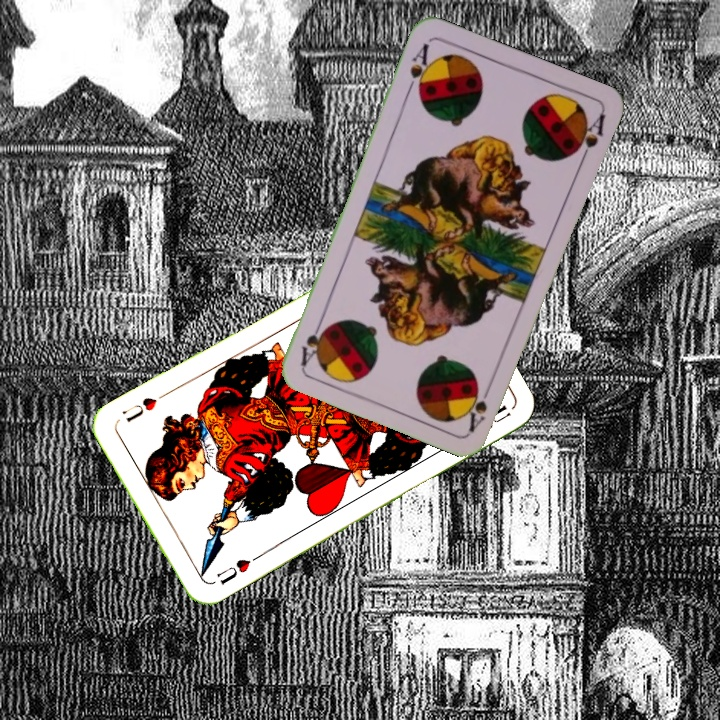HU: (212, 551, 262, 588)
SA: (402, 39, 436, 99), (465, 377, 496, 434)
